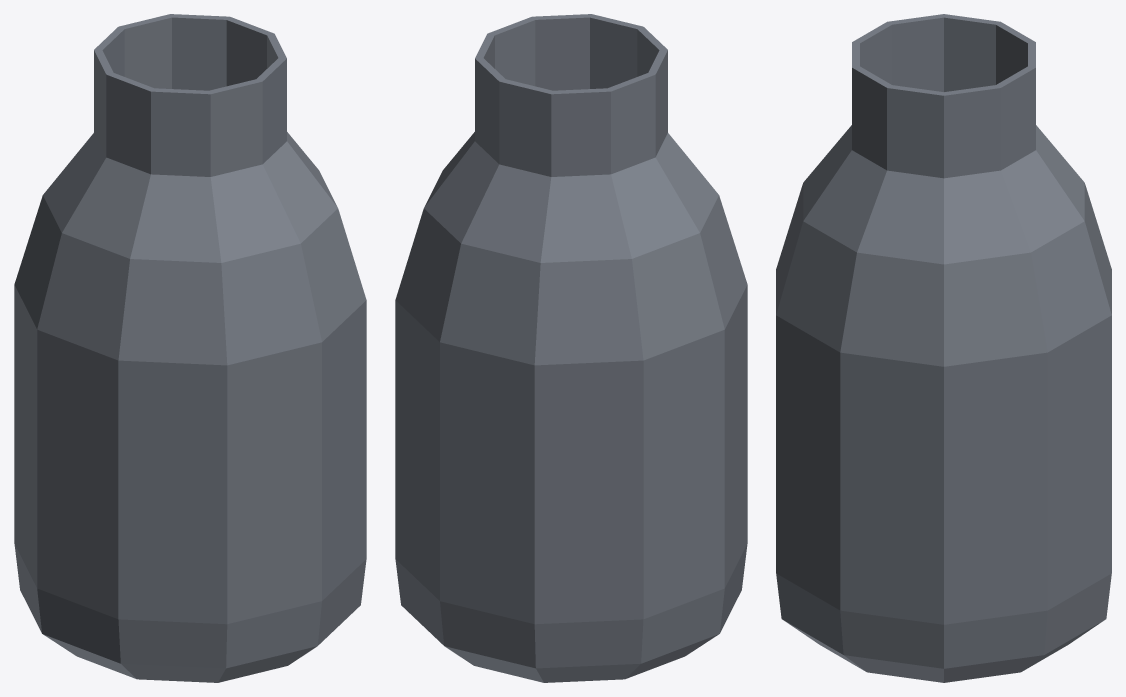
Rendered from jar_lantern.obj.
The picture shows the model from 3 angles, left to right: view 1: azimuth 30°, elevation 25°; view 2: azimuth 150°, elevation 25°; view 3: azimuth 270°, elevation 25°; orthographic projection.
Visible parts, largest first — view 1: jar_lantern; view 2: jar_lantern; view 3: jar_lantern.
Boxes of the visible parts, <box> form: jar_lantern: <box>14,14,366,682</box>; jar_lantern: <box>395,14,747,682</box>; jar_lantern: <box>776,14,1111,682</box>.
Bounding box in the file's own units: 0.124 × 0.222 × 0.1179.
Materials: 1 (1 with a texture image).
